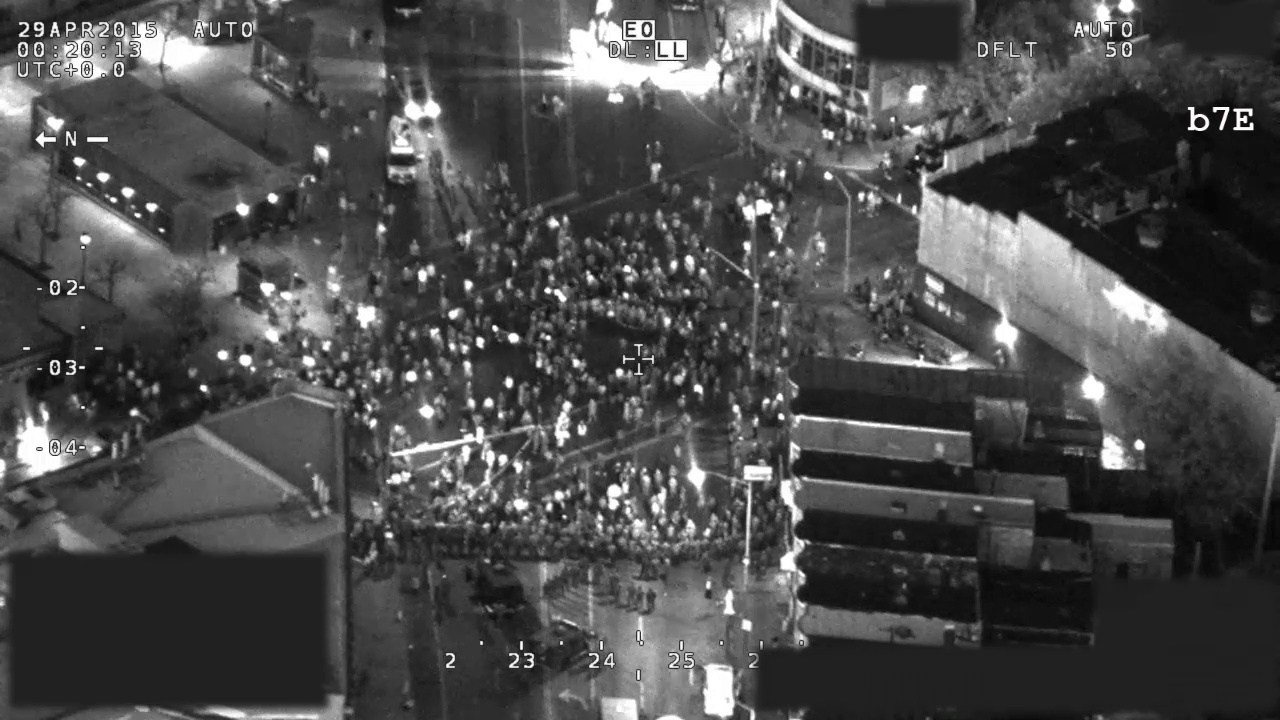vehicle: (489, 287, 567, 350), (463, 549, 527, 624), (523, 621, 593, 680), (78, 414, 151, 458), (388, 66, 442, 124), (384, 109, 421, 186), (697, 658, 736, 720)
